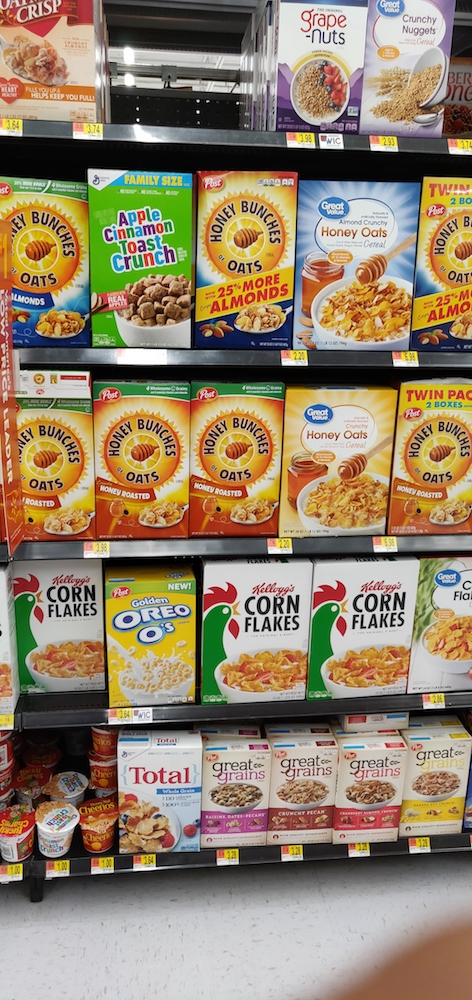Oreo Golden-568301011: (107, 576, 194, 703)
